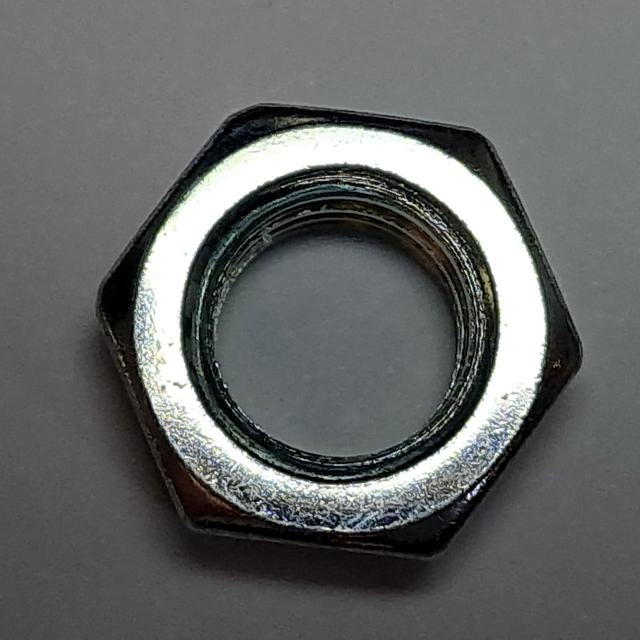Excellent: (75, 89, 591, 576)
